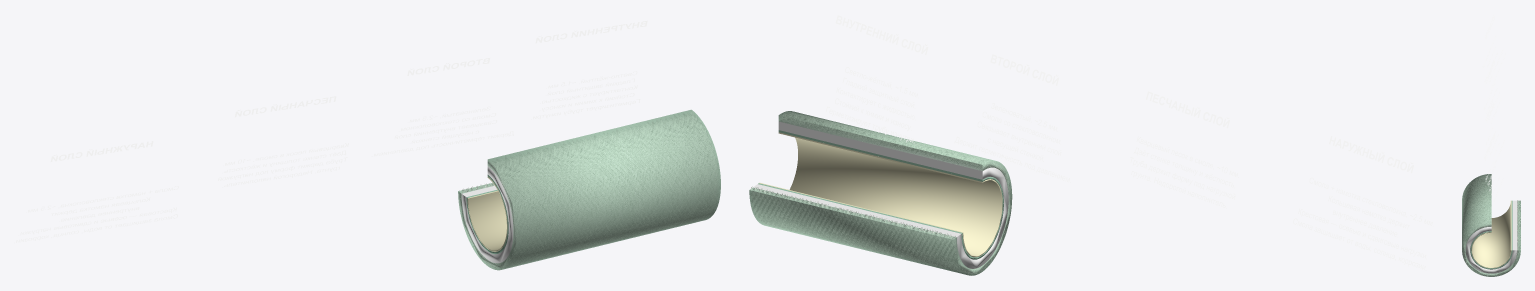
Rendered from kompozit-truba-v2.glb.
3 renders of one model, left to right at view 1: azimuth 30°, elevation 25°; view 2: azimuth 150°, elevation 25°; view 3: azimuth 270°, elevation 25°, orthographic. The views are drawn at different scales.
Visible parts, largest first — view 1: D_GG, FG_Outer, D_BY, D_LY, T3b, T1b, T2b, T0b, T0; view 2: D_LY, D_GG, FG_Outer, D_BY, T3b, T1b, T2b, T0b, D_G, T0, T3, T2; view 3: D_GG, FG_Outer, D_LY, D_BY, D_G, T3b, T2b, T0b, T1b, T0, T2, T3 (+1 smaller).
Part boxes in pixels (x1,y1,x2,y2): D_GG: (458,109,720,270); FG_Outer: (459,112,719,268); D_BY: (461,122,712,263); D_LY: (467,177,507,251); T3b: (14,186,178,243); T1b: (371,106,513,156); T2b: (218,143,348,187); T0b: (531,71,640,119); T0: (535,20,647,43); D_LY: (759,132,1002,257); D_GG: (749,111,1012,275); FG_Outer: (750,112,1010,273); D_BY: (753,119,1008,268); T3b: (1293,177,1433,270); T1b: (954,103,1070,182); T2b: (1130,136,1238,208); T0b: (826,67,918,143); D_G: (758,130,1003,259); T0: (835,15,928,54); T3: (1329,136,1413,173); T2: (1146,91,1229,128); D_GG: (1462,174,1520,276); FG_Outer: (1463,175,1520,275); D_LY: (1471,200,1511,268); D_BY: (1465,182,1517,273); D_G: (1470,200,1512,269); T3b: (1482,35,1505,87); T2b: (1483,82,1501,123); T0b: (1485,161,1503,201); T1b: (1485,127,1504,171); T0: (1484,133,1495,160); T2: (1484,59,1494,84); T3: (1484,14,1494,39).
Bounding box in the file's own units: 6.5 × 2.02 × 1.
